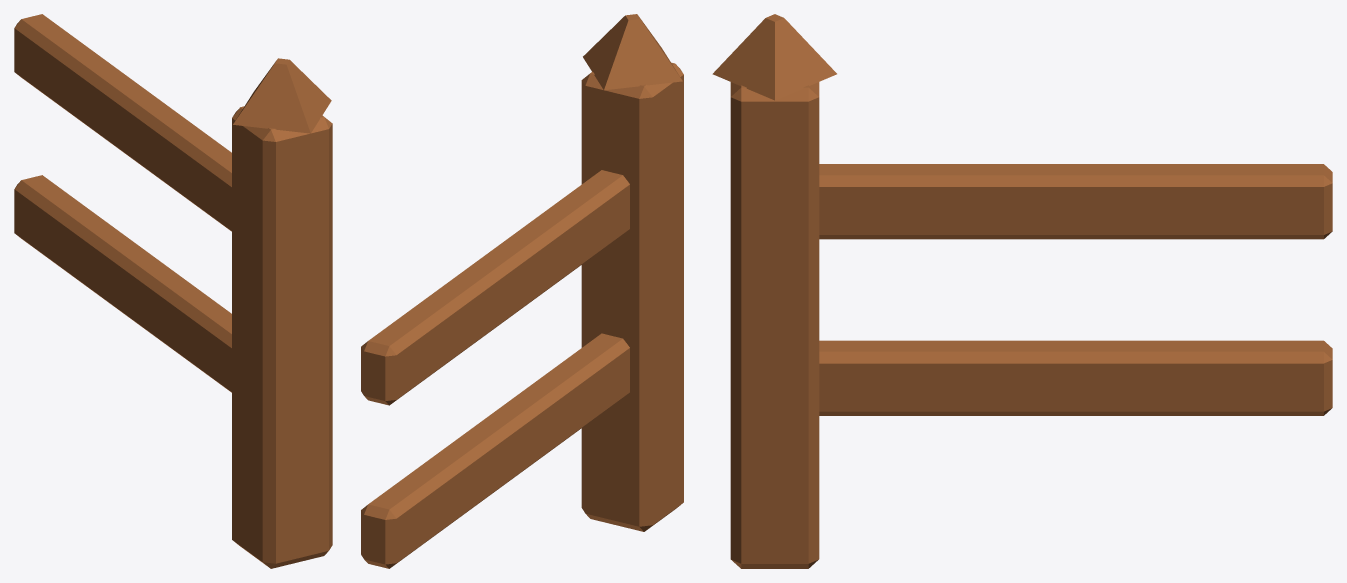
Rendered from FenceSection.fbx.
3 views of the same model, side by side, from view 1: azimuth 30°, elevation 25°; view 2: azimuth 150°, elevation 25°; view 3: azimuth 270°, elevation 25° (orthographic). The views are drawn at different scales.
Parts seen in each view (by area): view 1: Post, Rail_1, Rail_2; view 2: Post, Rail_2, Rail_1; view 3: Post, Rail_1, Rail_2.
Part boxes in pixels (x1=…): Post: x1=232, y1=58, x2=332, y2=568; Rail_1: x1=14, y1=175, x2=231, y2=392; Rail_2: x1=14, y1=14, x2=231, y2=231; Post: x1=581, y1=14, x2=683, y2=531; Rail_2: x1=361, y1=170, x2=629, y2=405; Rail_1: x1=361, y1=333, x2=629, y2=568; Post: x1=712, y1=14, x2=836, y2=568; Rail_1: x1=819, y1=340, x2=1332, y2=415; Rail_2: x1=819, y1=164, x2=1332, y2=239.
Bounding box in the file's own units: 0.7071 × 3.35 × 3.5.
